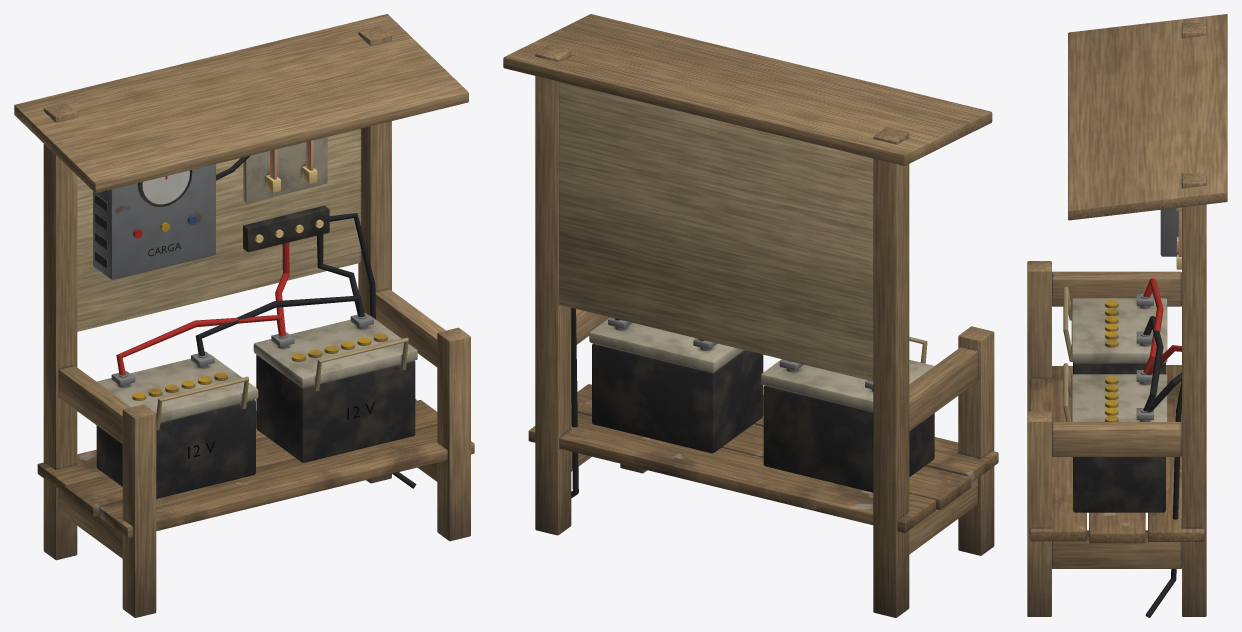
The model's file is banco_baterias.glb.
3 renders of one model, left to right at view 1: azimuth 30°, elevation 25°; view 2: azimuth 150°, elevation 25°; view 3: azimuth 270°, elevation 25°, orthographic. The views are drawn at different scales.
Parts seen in each view (by area): view 1: estrutura, baterias, quadro; view 2: estrutura, baterias, quadro; view 3: estrutura, baterias, quadro.
Part boxes in pixels (left/top/right/bottom): estrutura: left=14, top=14, right=474, bottom=617; baterias: left=96, top=234, right=417, bottom=498; quadro: left=93, top=137, right=416, bottom=488; estrutura: left=503, top=14, right=998, bottom=617; baterias: left=589, top=317, right=934, bottom=492; quadro: left=571, top=308, right=578, bottom=498; estrutura: left=1027, top=14, right=1227, bottom=616; baterias: left=1063, top=278, right=1181, bottom=512; quadro: left=1145, top=207, right=1181, bottom=617.
Size of the model in its own units: 0.82 by 0.93 by 0.389.
2 materials, 2 textured.
